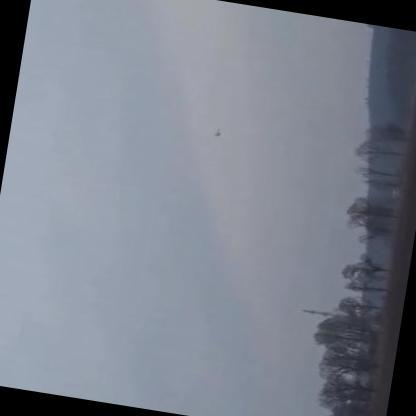plane: (206, 121, 229, 142)
